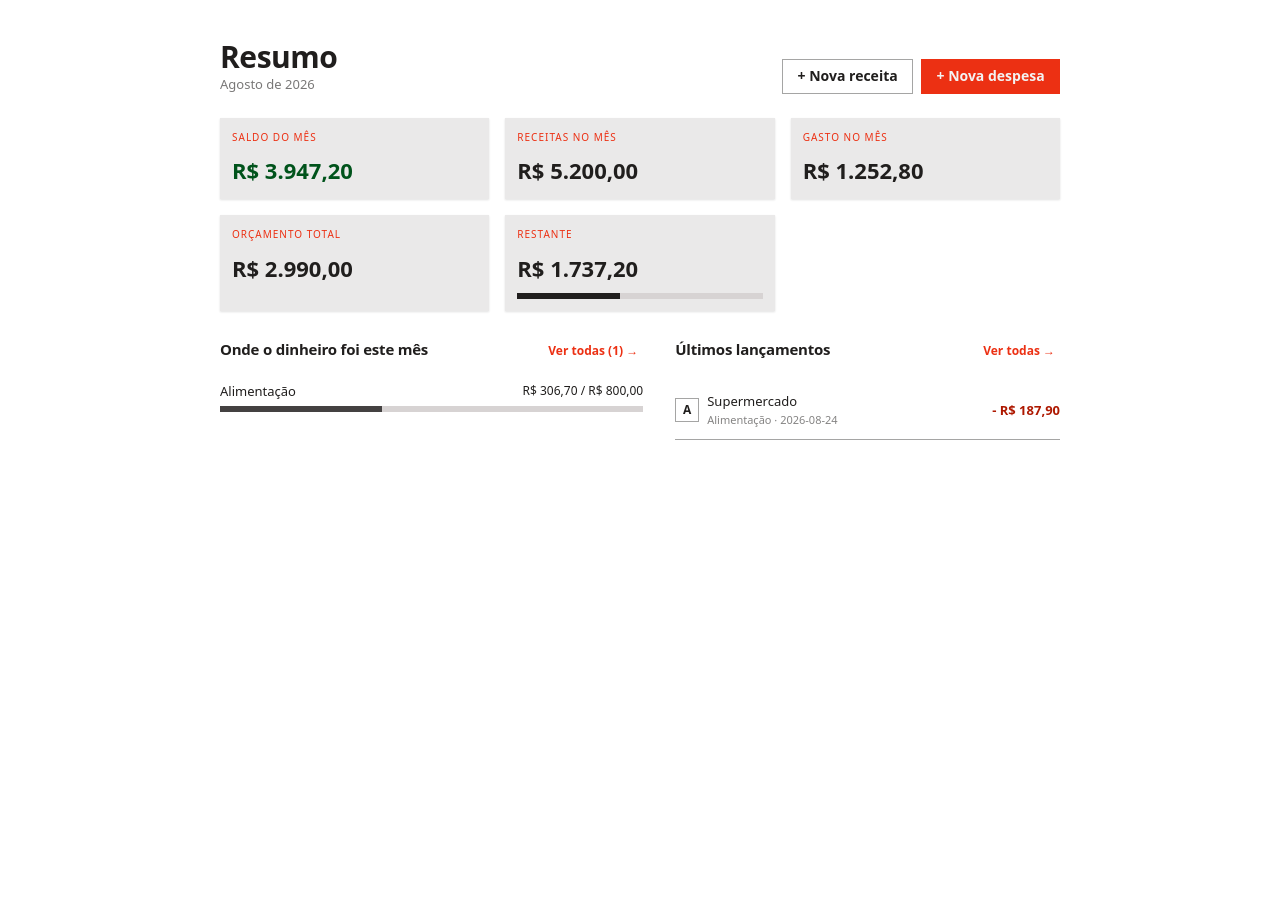
Test: DashboardPage › clicar em "+ Nova receita" abre o popup fixo em receita
Expected: the text "R$ 3.947,20" is shown, [232,155,353,185]
Click the button "+ Nova receita".
click(848, 76)  # box [782,59,913,94]
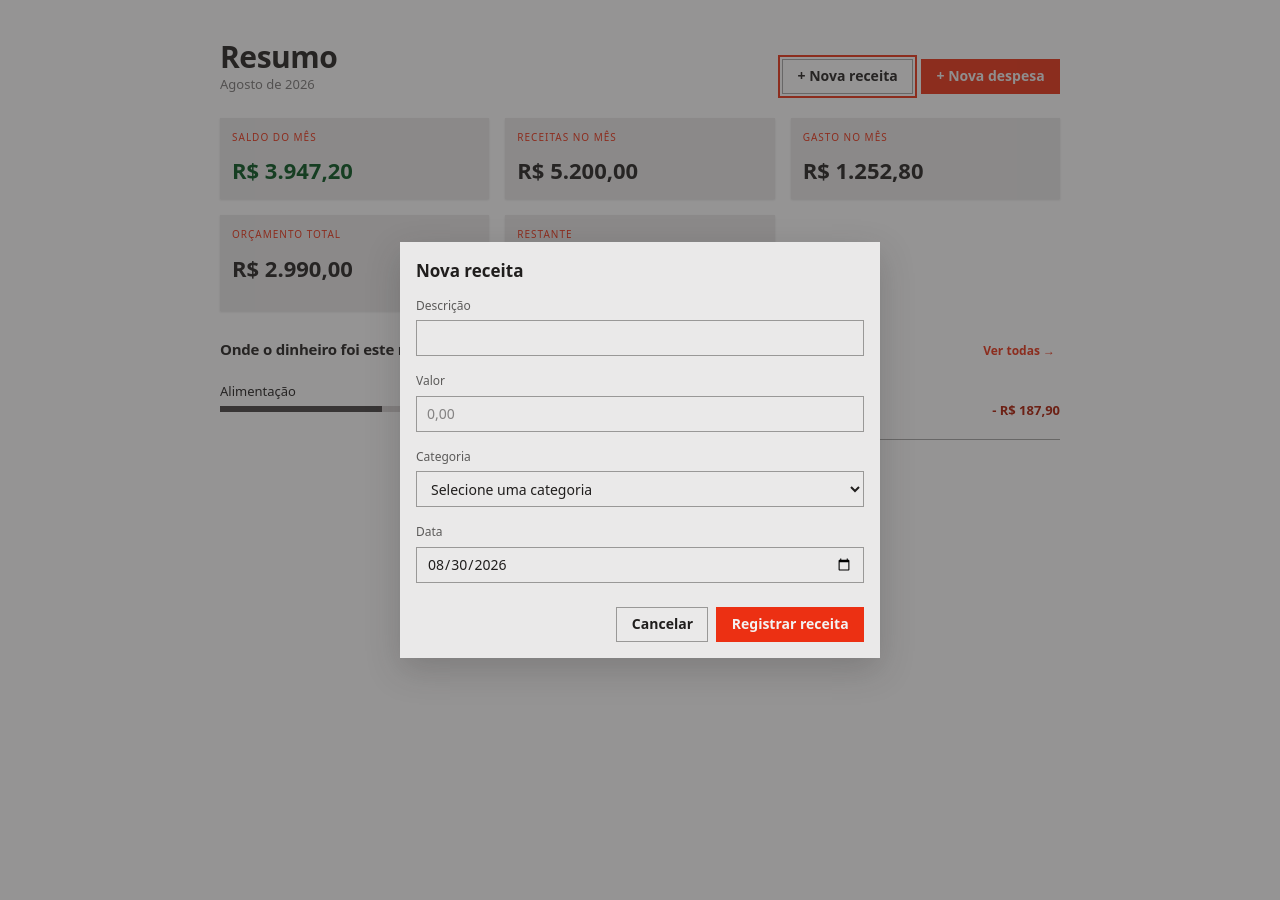
Now the text "Nova receita" is shown, box [416,259,523,282]
